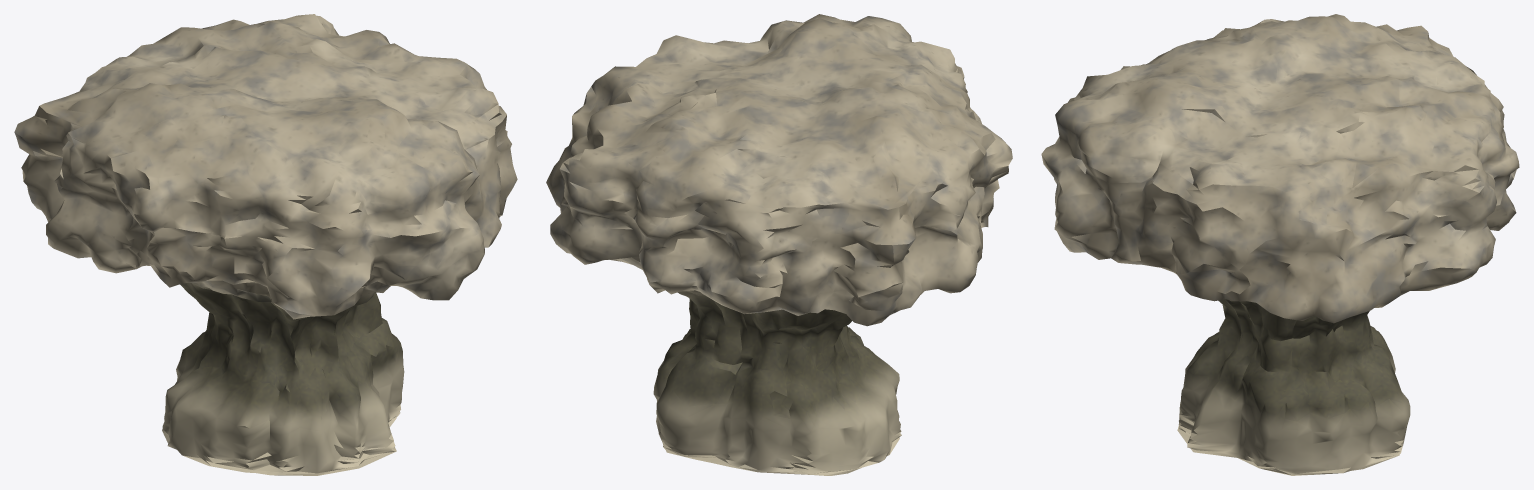
File: NotchRock_B.gltf
The picture shows the model from 3 angles, left to right: view 1: azimuth 30°, elevation 25°; view 2: azimuth 150°, elevation 25°; view 3: azimuth 270°, elevation 25°; orthographic projection. The views are drawn at different scales.
Parts seen in each view (by area): view 1: NotchRock_B; view 2: NotchRock_B; view 3: NotchRock_B.
Boxes of the visible parts, x1,y1,x2,y2 form: NotchRock_B: [14, 14, 517, 475]; NotchRock_B: [546, 14, 1012, 475]; NotchRock_B: [1041, 14, 1519, 475].
Bounding box in the file's own units: 5.04 × 3.99 × 4.91.
1 material, 1 textured.
